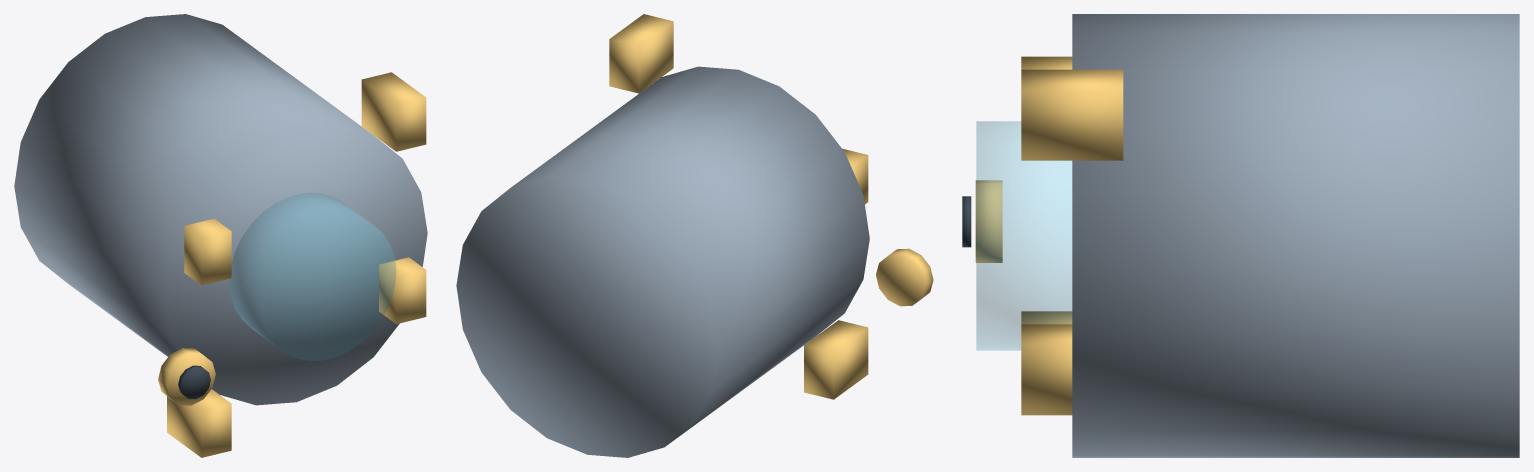
The model's file is 89_L88_EnvironmentalInspectionCamera.glb.
3 views of the same model, side by side, from view 1: azimuth 30°, elevation 25°; view 2: azimuth 150°, elevation 25°; view 3: azimuth 270°, elevation 25° (orthographic). The views are drawn at different scales.
Parts seen in each view (by area): view 1: L87_EnvironmentalInspectionCa_Part_0000, L87_EnvironmentalInspectionCa_Part_0001, L87_EnvironmentalInspectionCa_Part_0002, L87_EnvironmentalInspectionCa_Part_0003, L87_EnvironmentalInspectionCa_Part_0004; view 2: L87_EnvironmentalInspectionCa_Part_0000, L87_EnvironmentalInspectionCa_Part_0002, L87_EnvironmentalInspectionCa_Part_0003; view 3: L87_EnvironmentalInspectionCa_Part_0000, L87_EnvironmentalInspectionCa_Part_0001, L87_EnvironmentalInspectionCa_Part_0002, L87_EnvironmentalInspectionCa_Part_0003.
Part boxes in pixels (x1,y1,x2,y2): L87_EnvironmentalInspectionCa_Part_0000: [14, 14, 427, 405]; L87_EnvironmentalInspectionCa_Part_0001: [229, 193, 395, 360]; L87_EnvironmentalInspectionCa_Part_0002: [167, 72, 426, 457]; L87_EnvironmentalInspectionCa_Part_0003: [158, 348, 215, 405]; L87_EnvironmentalInspectionCa_Part_0004: [178, 365, 210, 399]; L87_EnvironmentalInspectionCa_Part_0000: [456, 66, 869, 457]; L87_EnvironmentalInspectionCa_Part_0002: [609, 14, 868, 399]; L87_EnvironmentalInspectionCa_Part_0003: [876, 248, 933, 306]; L87_EnvironmentalInspectionCa_Part_0000: [1072, 14, 1519, 457]; L87_EnvironmentalInspectionCa_Part_0001: [976, 121, 1071, 350]; L87_EnvironmentalInspectionCa_Part_0002: [1021, 56, 1123, 415]; L87_EnvironmentalInspectionCa_Part_0003: [975, 180, 1002, 262].
Size of the model in its own units: 0.783 by 0.78 by 0.872.
